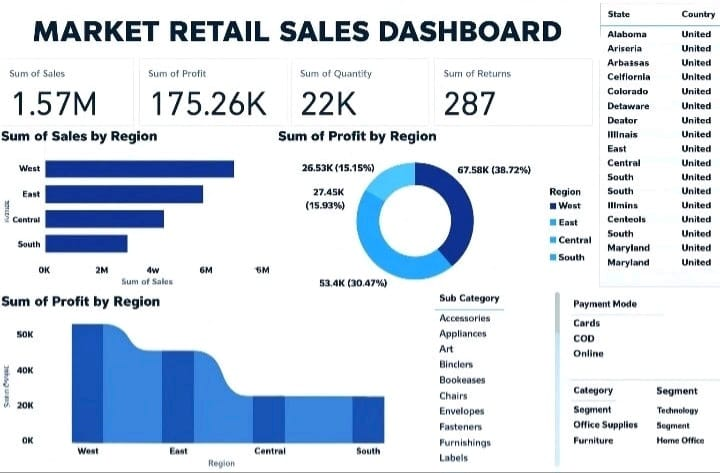

This screenshot's page, from the dashboard's own definition file:
{"tool":"powerbi","page":{"name":"Page 1","canvas":[1280,720],"ordinal":0},"visuals":[{"type":"cardVisual","fields":{"Data":["Sum(Amazon Store Sales Data.Sales)"]},"box":[0,64,240,112],"z":0},{"type":"ribbonChart","fields":{"Category":["Amazon Store Sales Data.Region"],"Y":["Sum(Amazon Store Sales Data.Profit)"]},"box":[0,460,678.6,260],"z":1000},{"type":"clusteredBarChart","fields":{"Category":["Amazon Store Sales Data.Region"],"Y":["Sum(Amazon Store Sales Data.Sales)"]},"box":[0,192,464,256],"z":2000},{"type":"advancedSlicerVisual","fields":{"Values":["Amazon Store Sales Data.State"]},"box":[1008,0,272,448],"z":3000},{"type":"cardVisual","fields":{"Data":["Sum(Amazon Store Sales Data.Profit)"]},"box":[224,64,272,112],"z":4000},{"type":"cardVisual","fields":{"Data":["Sum(Amazon Store Sales Data.Quantity)"]},"box":[496,64,224,112],"z":5000},{"type":"cardVisual","fields":{"Data":["Sum(Amazon Store Sales Data.Returns)"]},"box":[720,64,272,112],"z":6000},{"type":"donutChart","fields":{"Category":["Amazon Store Sales Data.Region"],"Y":["Sum(Amazon Store Sales Data.Profit)"]},"box":[480,192,512,256],"z":7000},{"type":"tableEx","fields":{"Values":["Amazon Store Sales Data.Payment Mode"]},"box":[944,464,336,128],"z":8000},{"type":"tableEx","fields":{"Values":["Amazon Store Sales Data.Segment"]},"box":[1104,608,176,112],"z":9000},{"type":"tableEx","fields":{"Values":["Amazon Store Sales Data.Category"]},"box":[944,608,144,112],"z":10000},{"type":"tableEx","fields":{"Values":["Amazon Store Sales Data.Sub-Category"]},"box":[688,464,240,256],"z":11000},{"type":"textbox","box":[0,0,994,72],"z":12000}]}

Visuals, with their boxes on the page's 1280x720 design canvas (x1, y1, x2, y2). These are canvas units, not pixel positions in the 720x473 screenshot, which may show the page scaled, cropped or inside an application window:
cardVisual - Sum(Amazon Store Sales Data.Sales): {"left": 0, "top": 64, "right": 240, "bottom": 176}
ribbonChart - Amazon Store Sales Data.Region x Sum(Amazon Store Sales Data.Profit): {"left": 0, "top": 460, "right": 679, "bottom": 720}
clusteredBarChart - Amazon Store Sales Data.Region x Sum(Amazon Store Sales Data.Sales): {"left": 0, "top": 192, "right": 464, "bottom": 448}
advancedSlicerVisual - Amazon Store Sales Data.State: {"left": 1008, "top": 0, "right": 1280, "bottom": 448}
cardVisual - Sum(Amazon Store Sales Data.Profit): {"left": 224, "top": 64, "right": 496, "bottom": 176}
cardVisual - Sum(Amazon Store Sales Data.Quantity): {"left": 496, "top": 64, "right": 720, "bottom": 176}
cardVisual - Sum(Amazon Store Sales Data.Returns): {"left": 720, "top": 64, "right": 992, "bottom": 176}
donutChart - Amazon Store Sales Data.Region x Sum(Amazon Store Sales Data.Profit): {"left": 480, "top": 192, "right": 992, "bottom": 448}
tableEx - Amazon Store Sales Data.Payment Mode: {"left": 944, "top": 464, "right": 1280, "bottom": 592}
tableEx - Amazon Store Sales Data.Segment: {"left": 1104, "top": 608, "right": 1280, "bottom": 720}
tableEx - Amazon Store Sales Data.Category: {"left": 944, "top": 608, "right": 1088, "bottom": 720}
tableEx - Amazon Store Sales Data.Sub-Category: {"left": 688, "top": 464, "right": 928, "bottom": 720}
textbox: {"left": 0, "top": 0, "right": 994, "bottom": 72}
